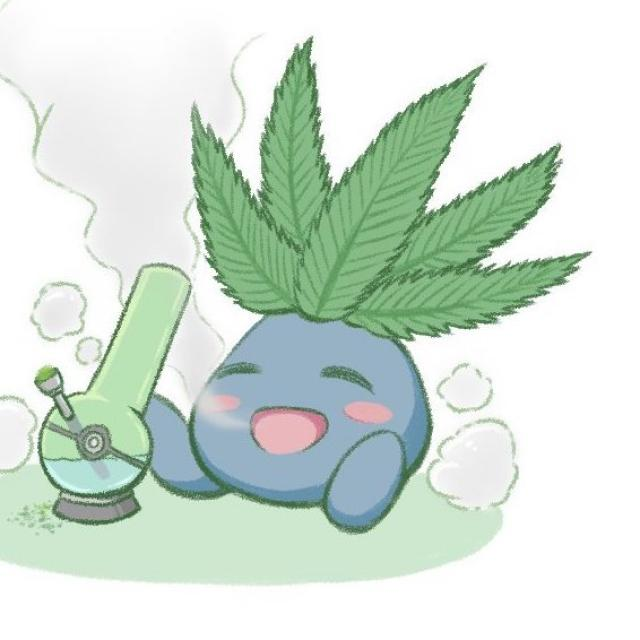Oddish: (180, 116, 470, 537)
